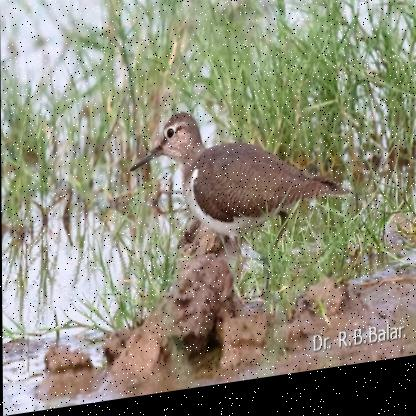Burung: (126, 99, 351, 277)
